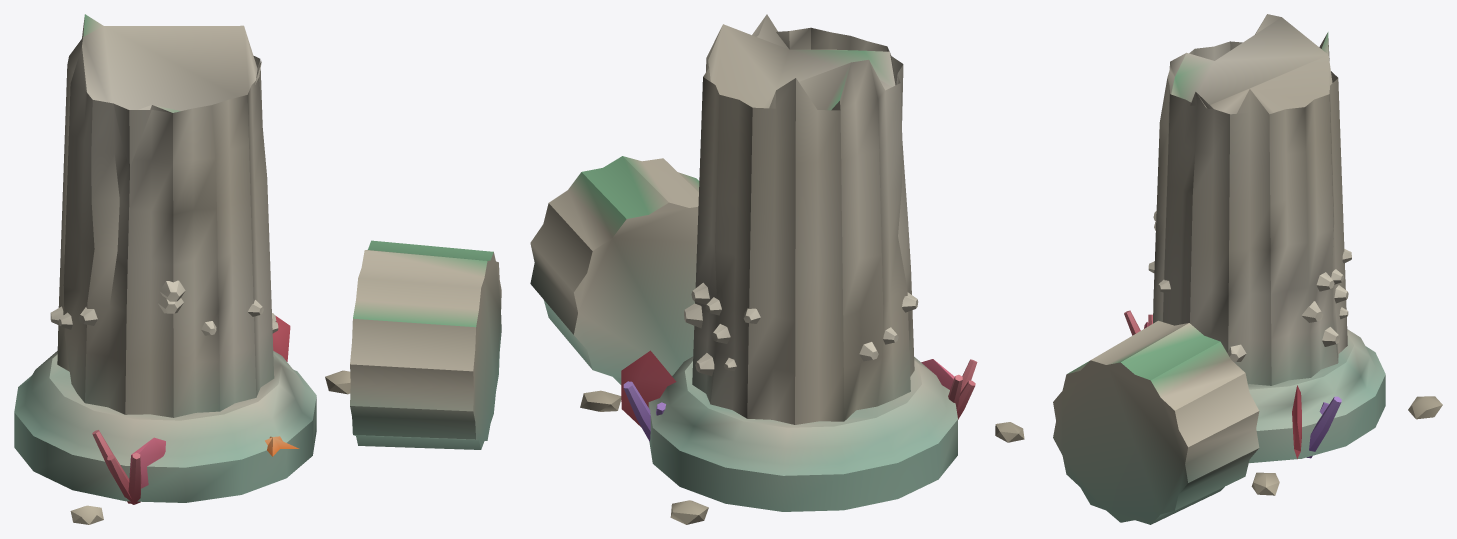
The model's file is reef_column_broken.glb.
3 views of the same model, side by side, from view 1: azimuth 30°, elevation 25°; view 2: azimuth 150°, elevation 25°; view 3: azimuth 270°, elevation 25° (orthographic). The views are drawn at different scales.
Parts seen in each view (by area): view 1: reef_column_broken; view 2: reef_column_broken; view 3: reef_column_broken.
Boxes of the visible parts, left/top/right/bottom form: reef_column_broken: left=14, top=14, right=501, bottom=524; reef_column_broken: left=530, top=14, right=1024, bottom=524; reef_column_broken: left=1053, top=14, right=1442, bottom=524.
Size of the model in its own units: 2.97 by 2.6 by 2.47.
